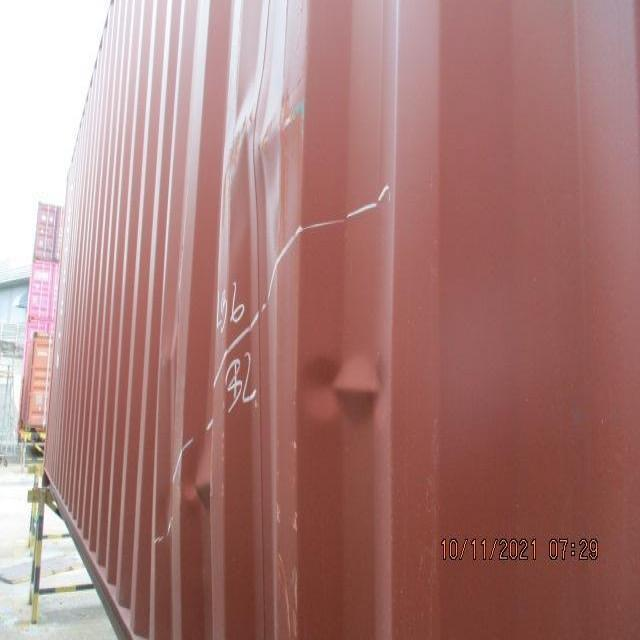dent: (150, 60, 405, 554)
